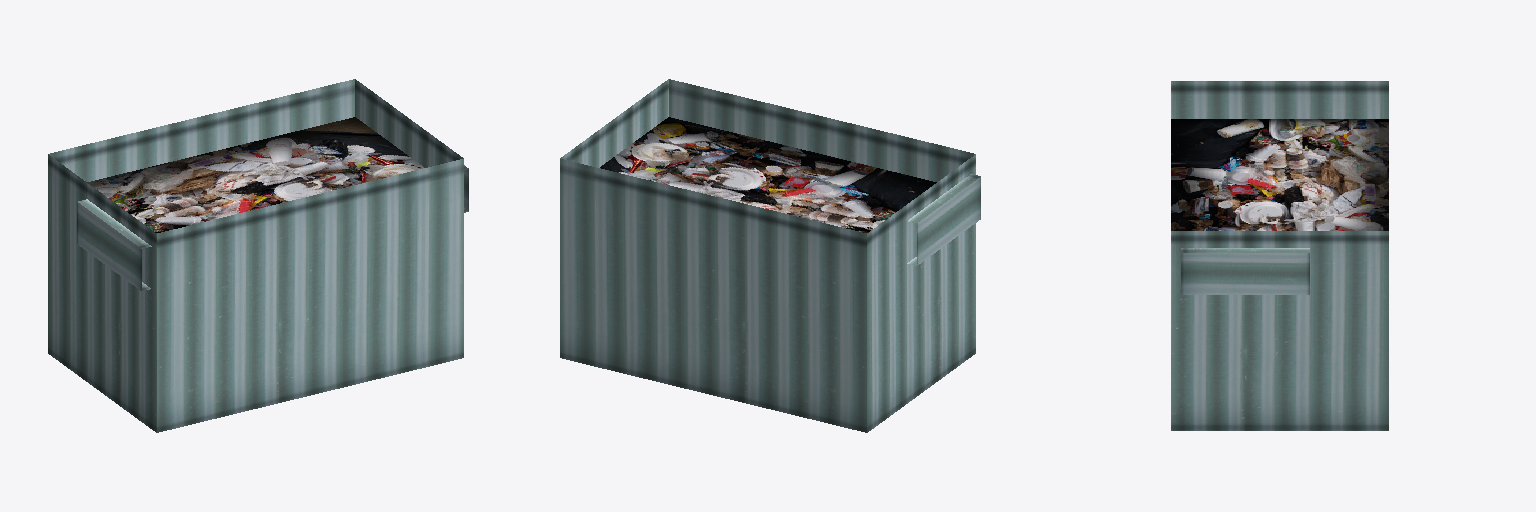
The picture shows the model from 3 angles: view 1: azimuth 30°, elevation 25°; view 2: azimuth 150°, elevation 25°; view 3: azimuth 270°, elevation 25°; orthographic projection.
Parts seen in each view (by area): view 1: dumpster_4; view 2: dumpster_4; view 3: dumpster_4.
Part boxes in pixels (bbox=[...]): dumpster_4: bbox=[48, 79, 468, 432]; dumpster_4: bbox=[560, 79, 980, 432]; dumpster_4: bbox=[1171, 81, 1388, 430].
Size of the model in its own units: 1.52 by 0.8869 by 0.8772.
1 materials, 1 textured.